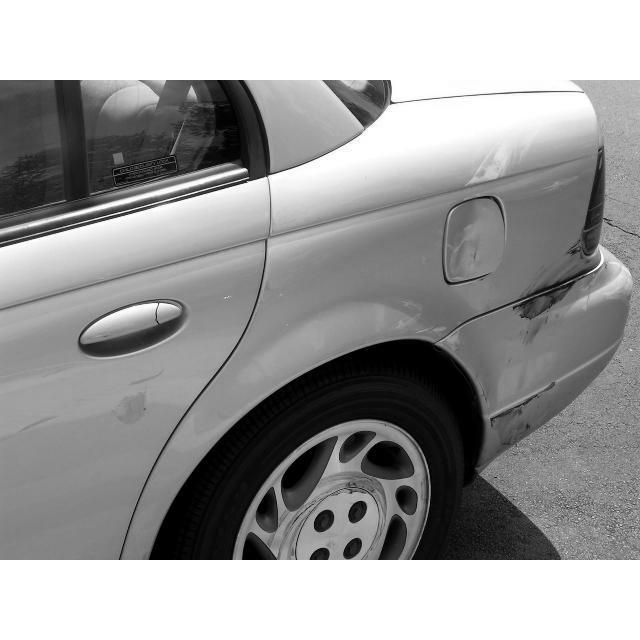quaterpanel-dent: (268, 160, 606, 420)
